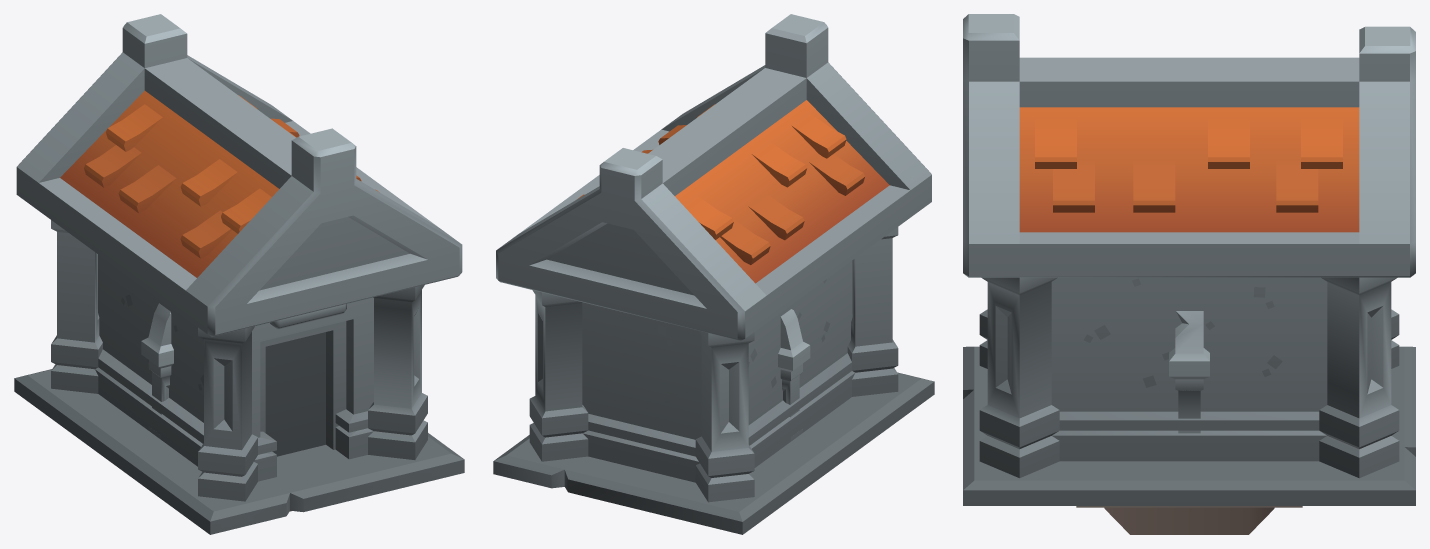
File: graveyard.glb
3 renders of one model, left to right at view 1: azimuth 30°, elevation 25°; view 2: azimuth 150°, elevation 25°; view 3: azimuth 270°, elevation 25°, orthographic. The views are drawn at different scales.
Visible parts, largest first — view 1: crypt, Cube.632; view 2: crypt, Cube.632; view 3: crypt, floor_dirt_grave, Cube.632.
Boxes of the visible parts, left/top/right/bottom form: crypt: left=14, top=14, right=464, bottom=534; Cube.632: left=141, top=303, right=173, bottom=439; crypt: left=493, top=14, right=934, bottom=534; Cube.632: left=778, top=309, right=810, bottom=441; crypt: left=963, top=14, right=1415, bottom=505; floor_dirt_grave: left=1076, top=506, right=1302, bottom=534; Cube.632: left=1169, top=311, right=1209, bottom=433.
Bounding box in the file's own units: 6 × 9.5 × 8.
1 material, 1 textured.
